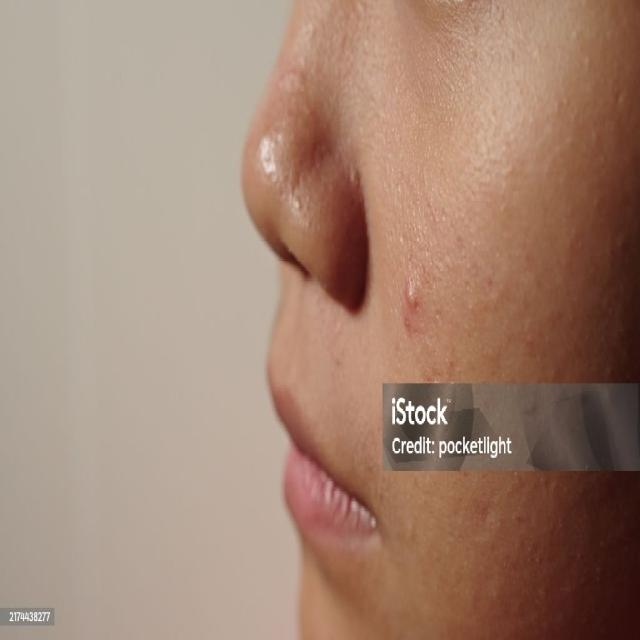pustule: (398, 269, 432, 339)
